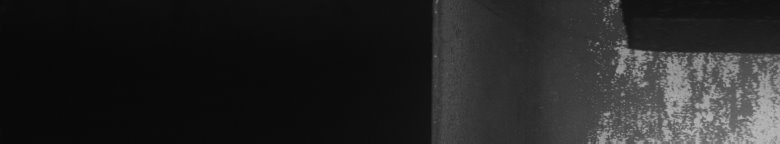kb: (587, 4, 776, 136)
